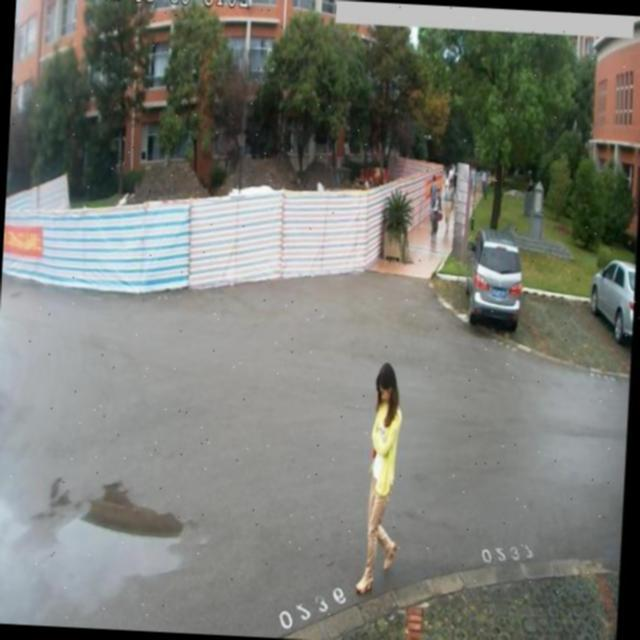person: (353, 354, 409, 598), (429, 189, 445, 248), (444, 179, 454, 238)
